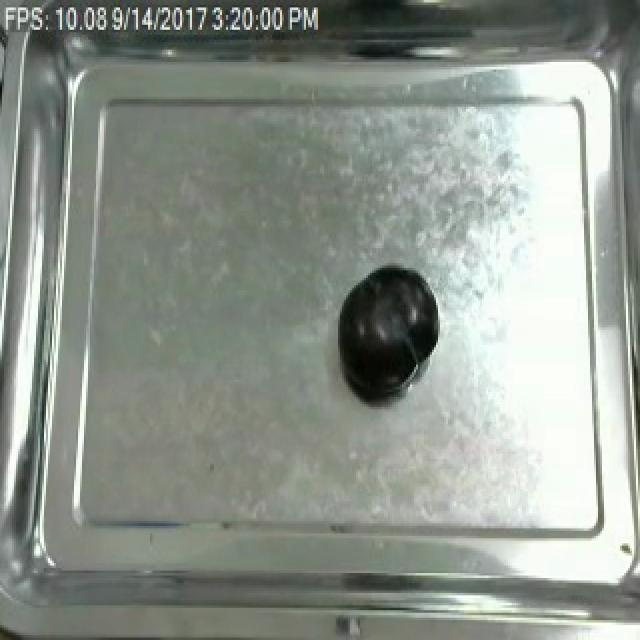Fruit: (334, 260, 442, 400)
